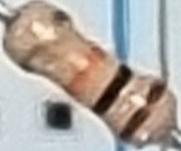Black: (89, 62, 135, 117)
Orange: (116, 80, 169, 145), (58, 40, 107, 93)
Side-Silver: (10, 5, 74, 69)
